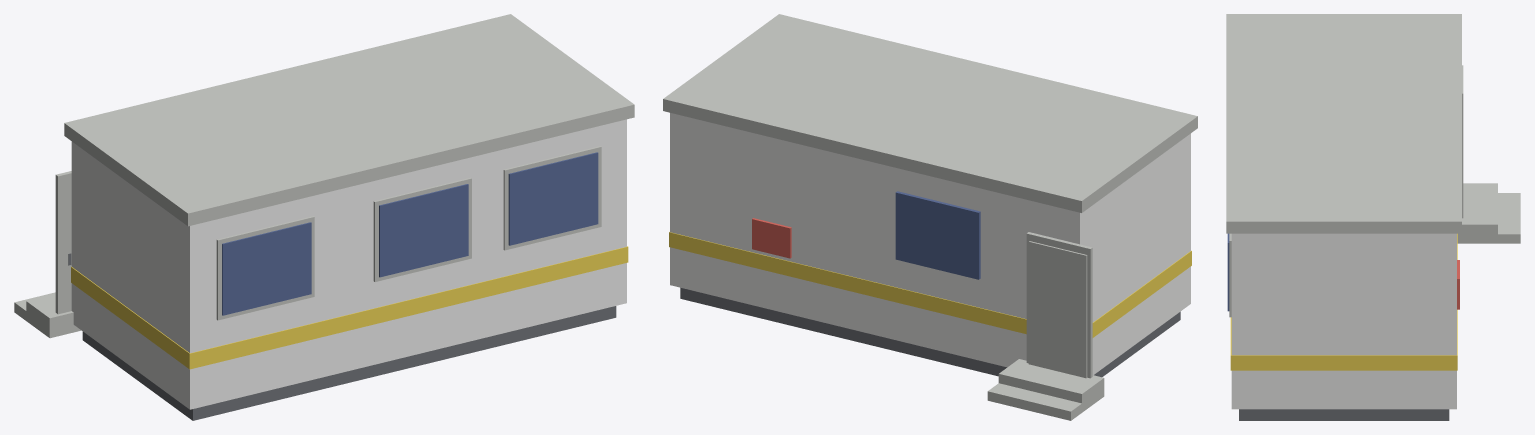
Rendered from wind-and-solar-energy-farm-site-office-portacabin-26bb14e0__34079.glb.
The picture shows the model from 3 angles, left to right: view 1: azimuth 30°, elevation 25°; view 2: azimuth 150°, elevation 25°; view 3: azimuth 270°, elevation 25°; orthographic projection. The views are drawn at different scales.
Visible parts, largest first — view 1: site-office-portacabin; view 2: site-office-portacabin, door/grey; view 3: site-office-portacabin, door/grey.
Part boxes in pixels (x1,y1,x2,y2): site-office-portacabin: (14, 14, 634, 420); site-office-portacabin: (663, 14, 1197, 420); door/grey: (1028, 241, 1087, 378); site-office-portacabin: (1226, 14, 1520, 420); door/grey: (1462, 65, 1463, 218).
Size of the model in its own units: 6.82 by 3.01 by 3.92.
